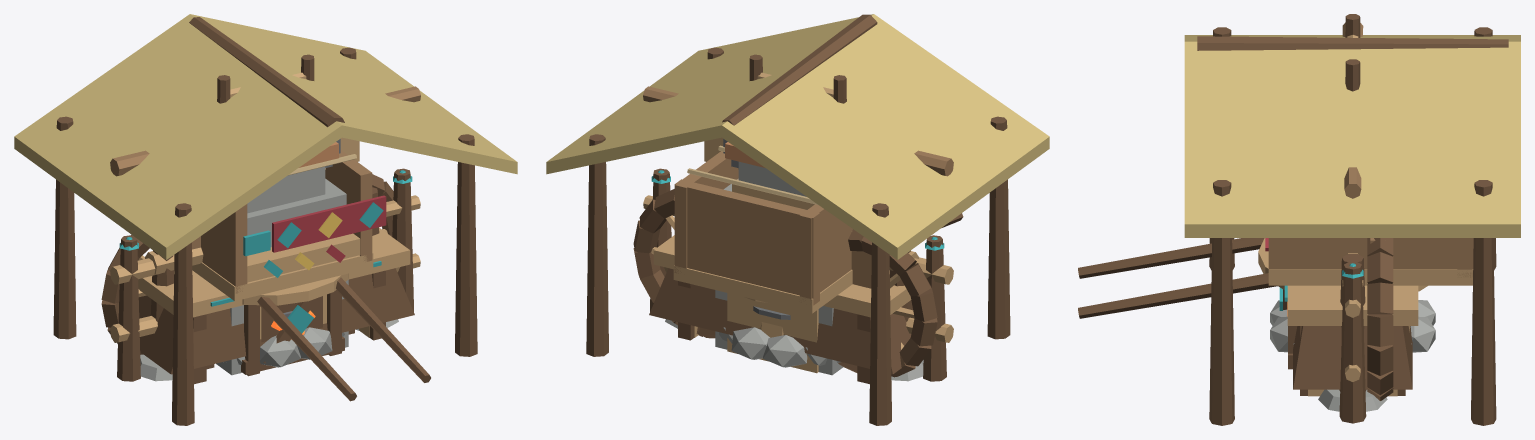
File: utileria.glb
3 renders of one model, left to right at view 1: azimuth 30°, elevation 25°; view 2: azimuth 150°, elevation 25°; view 3: azimuth 270°, elevation 25°, orthographic. The views are drawn at different scales.
Visible parts, largest first — view 1: prop_rancho_paja, prop_carreta, prop_chimenea, prop_bebedero, prop_cerca, prop_mesa_larga, prop_cajon, prop_amarradero, prop_fogata, prop_mesa_redonda, prop_escalera; view 2: prop_rancho_paja, prop_carreta, prop_bebedero, prop_cerca, prop_mesa_larga, prop_cajon, prop_fogata, prop_chimenea, prop_escalera, prop_banco, prop_silla, prop_amarradero (+1 smaller); view 3: prop_rancho_paja, prop_carreta, prop_bebedero, prop_cerca, prop_mesa_larga, prop_fogata, prop_amarradero, prop_escalera, prop_cajon.
Boxes of the visible parts, bbox=[...] form: prop_rancho_paja: bbox=[14, 14, 517, 425]; prop_carreta: bbox=[101, 150, 430, 401]; prop_chimenea: bbox=[216, 142, 360, 375]; prop_bebedero: bbox=[138, 268, 414, 374]; prop_cerca: bbox=[110, 168, 420, 381]; prop_mesa_larga: bbox=[138, 227, 410, 384]; prop_cajon: bbox=[241, 290, 344, 376]; prop_amarradero: bbox=[140, 187, 398, 381]; prop_fogata: bbox=[222, 327, 344, 367]; prop_mesa_redonda: bbox=[242, 273, 348, 305]; prop_escalera: bbox=[217, 54, 314, 103]; prop_rancho_paja: bbox=[546, 14, 1049, 425]; prop_carreta: bbox=[633, 145, 963, 377]; prop_bebedero: bbox=[649, 268, 911, 374]; prop_cerca: bbox=[643, 168, 953, 381]; prop_mesa_larga: bbox=[653, 235, 926, 384]; prop_cajon: bbox=[727, 293, 818, 373]; prop_fogata: bbox=[719, 327, 840, 367]; prop_chimenea: bbox=[715, 142, 843, 375]; prop_escalera: bbox=[749, 54, 846, 103]; prop_banco: bbox=[851, 232, 871, 288]; prop_silla: bbox=[732, 179, 814, 209]; prop_amarradero: bbox=[665, 250, 923, 381]; prop_rancho_paja: bbox=[1184, 22, 1520, 425]; prop_carreta: bbox=[1078, 238, 1473, 400]; prop_bebedero: bbox=[1293, 326, 1412, 396]; prop_cerca: bbox=[1339, 262, 1366, 423]; prop_mesa_larga: bbox=[1284, 285, 1418, 395]; prop_fogata: bbox=[1270, 300, 1435, 352]; prop_amarradero: bbox=[1318, 253, 1387, 411]; prop_escalera: bbox=[1345, 14, 1360, 91]; prop_cajon: bbox=[1279, 287, 1409, 369].
Size of the model in its own units: 3.6 by 2.77 by 3.56.
